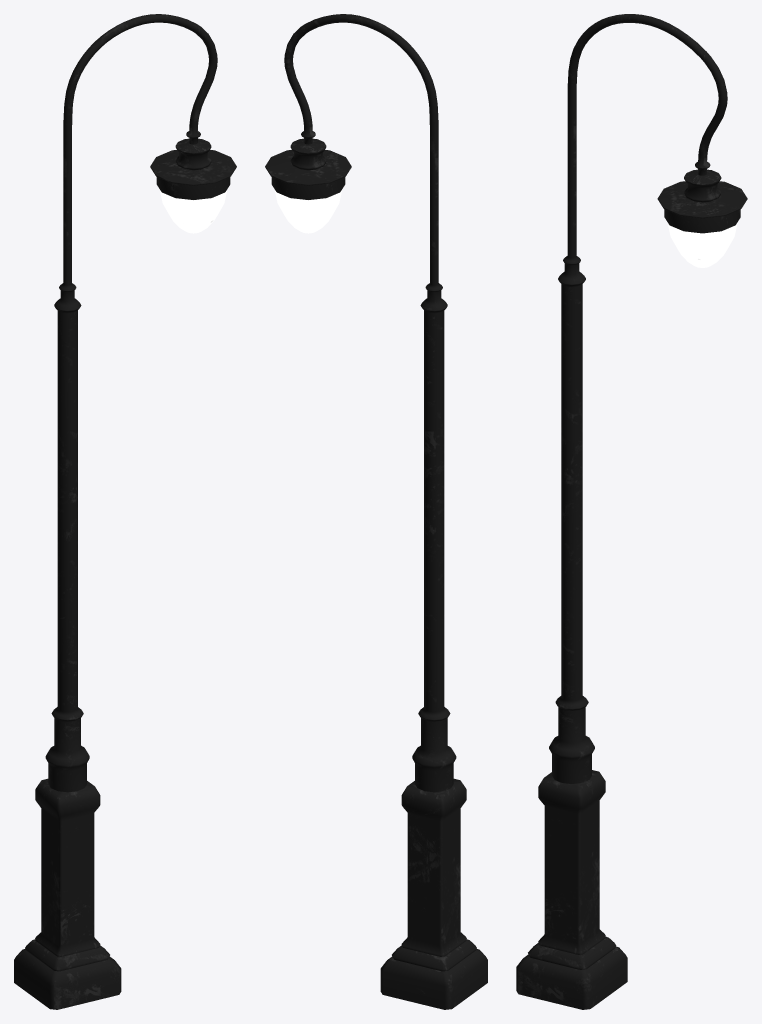
3 views of the same model, side by side, from view 1: azimuth 30°, elevation 25°; view 2: azimuth 150°, elevation 25°; view 3: azimuth 330°, elevation 25° (orthographic). The views are drawn at different scales.
Visible parts, largest first — view 1: Circle.001; view 2: Circle.001; view 3: Circle.001.
Boxes of the visible parts, box(x1,y1,x2,y2) form: Circle.001: box(14, 14, 236, 1009); Circle.001: box(265, 14, 487, 1009); Circle.001: box(516, 14, 747, 1009).
Size of the model in its own units: 0.9186 by 4.2 by 0.3463.
1 material, 1 textured.
